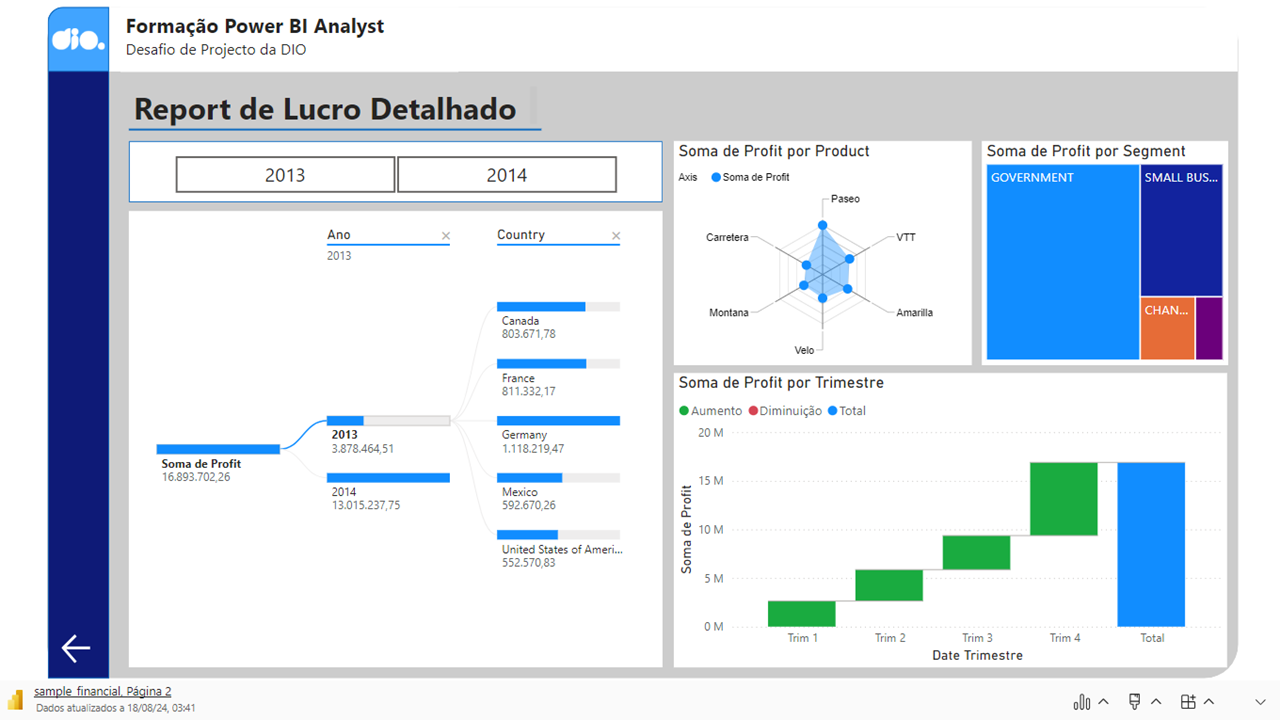

This screenshot's page, from the dashboard's own definition file:
{"tool":"powerbi","page":{"name":"Página 2","canvas":[1280,720],"ordinal":1},"visuals":[{"type":"shape","box":[12.5,7.8,1260.7,710.5],"z":0},{"type":"shape","box":[13.5,7.3,64.8,710.5],"z":1000},{"type":"shape","box":[13.7,7.8,64.8,68.5],"z":2000},{"type":"image","title":"dio","box":[13.5,6.1,64.8,69.7],"z":3000},{"type":"shape","box":[78.3,7.3,1194.7,68.5],"z":4000},{"type":"textbox","box":[99,86.8,436.6,51.4],"z":5000},{"type":"textbox","box":[90.5,7.3,357.1,68.5],"z":6000},{"type":"shape","box":[99,124.7,436.6,24.5],"z":7000},{"type":"shape","box":[99,149.2,564.9,64.8],"z":8000},{"type":"slicer","fields":{"Values":["financials.Date.Variation.Hierarquia de datas.Ano"]},"box":[122.3,159,517.3,45.2],"z":9000},{"type":"decompositionTreeVisual","fields":{"Analyze":["Sum(financials.Profit)"],"ExplainBy":["financials.Date.Variation.Hierarquia de datas.Ano","financials.Country"]},"box":[99,223.8,564.9,483],"z":10000},{"type":"waterfallChart","fields":{"Y":["Sum(financials.Profit)"],"Category":["financials.Date.Variation.Hierarquia de datas.Trimestre"]},"box":[676.2,395,585.7,311.8],"z":11000},{"type":"treemap","fields":{"Values":["Sum(financials.Profit)"],"Group":["financials.Segment"]},"box":[1001.5,149.2,260.5,237.2],"z":12000},{"type":"RadarChart1446119667547","fields":{"Y":["Sum(financials.Profit)"],"Category":["financials.Product"]},"box":[676.2,149.2,315.5,237.2],"z":13000},{"type":"actionButton","box":[24.5,666.4,44,40.4],"z":14000}]}

Visuals, with their boxes on the page's 1280x720 design canvas (x1, y1, x2, y2). These are canvas units, not pixel positions in the 1280x720 screenshot, which may show the page scaled, cropped or inside an application window:
shape: 12/8/1273/718
shape: 14/7/78/718
shape: 14/8/78/76
"dio" image: 14/6/78/76
shape: 78/7/1273/76
textbox: 99/87/536/138
textbox: 90/7/448/76
shape: 99/125/536/149
shape: 99/149/664/214
slicer - financials.Date.Variation.Hierarquia de datas.Ano: 122/159/640/204
decompositionTreeVisual - Sum(financials.Profit) x financials.Date.Variation.Hierarquia de datas.Ano: 99/224/664/707
waterfallChart - Sum(financials.Profit) x financials.Date.Variation.Hierarquia de datas.Trimestre: 676/395/1262/707
treemap - Sum(financials.Profit) x financials.Segment: 1002/149/1262/386
RadarChart1446119667547 - Sum(financials.Profit) x financials.Product: 676/149/992/386
actionButton: 24/666/68/707
